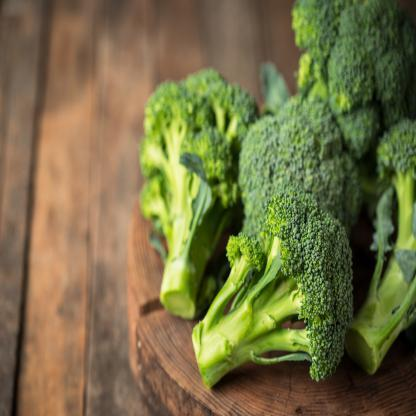broccoli: (138, 0, 416, 392)
